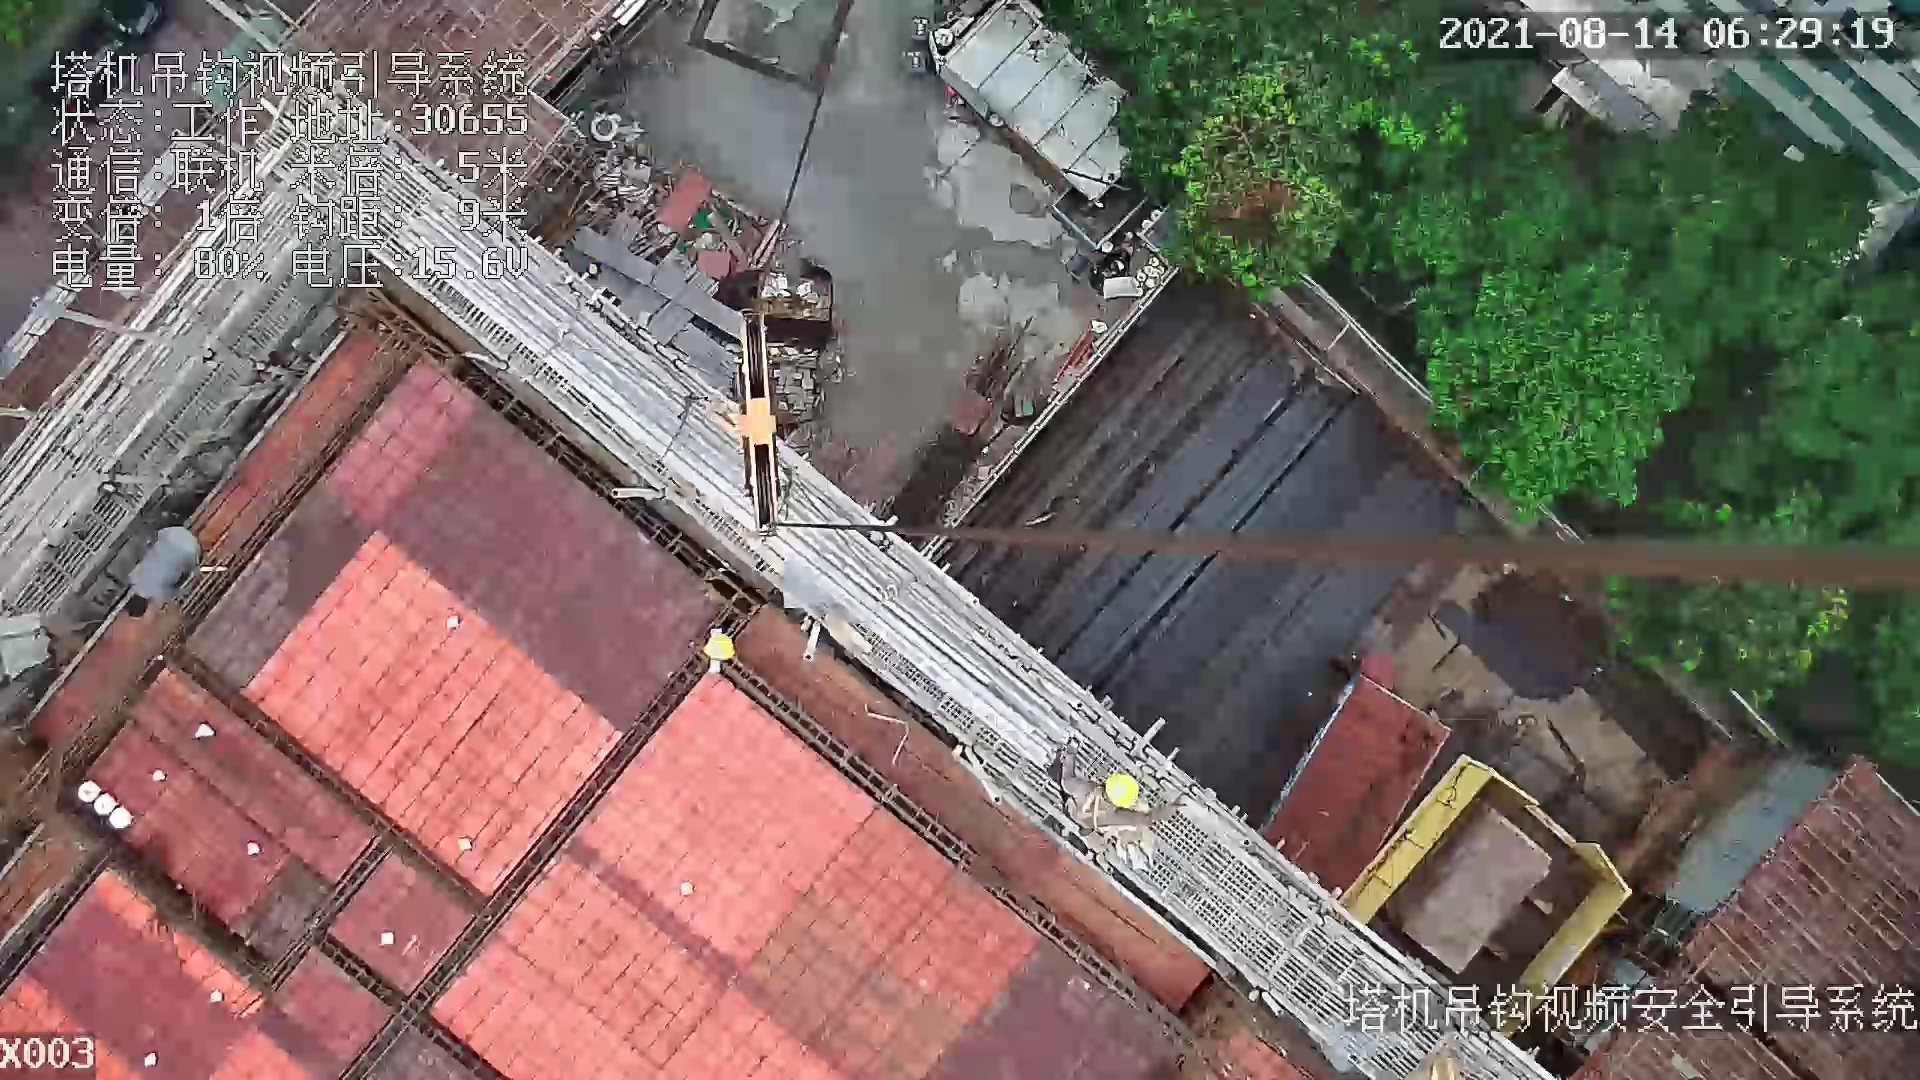helmet: (1100, 765, 1147, 815), (699, 633, 738, 665)
hook: (722, 312, 786, 541)
person: (1059, 730, 1188, 844)
rebar: (946, 268, 1454, 749)
